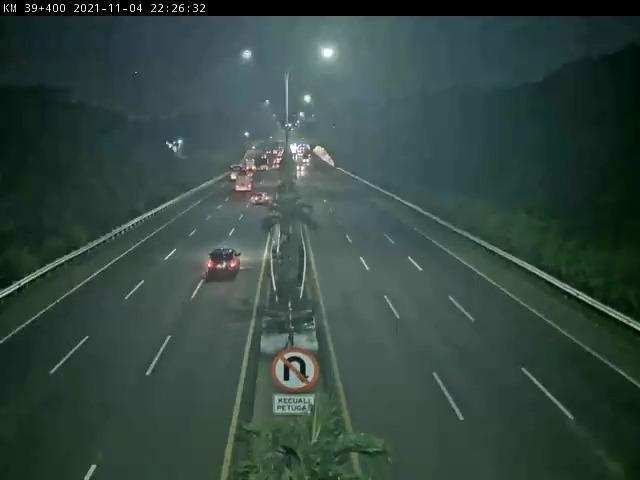car: (200, 235, 259, 292), (249, 190, 282, 217)
